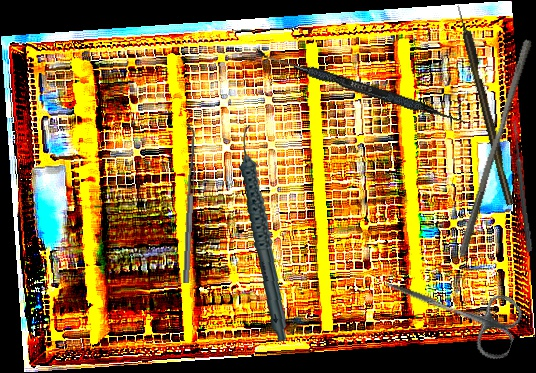Handpiece: (230, 124, 298, 342)
Hook Surgical: (455, 3, 515, 207)
Iris Scissors: (374, 255, 527, 364)
Pusher: (457, 35, 534, 262)
Spatula Surgical: (252, 48, 469, 127), (176, 123, 198, 284)
Surgical Spoon: (510, 120, 534, 252)
